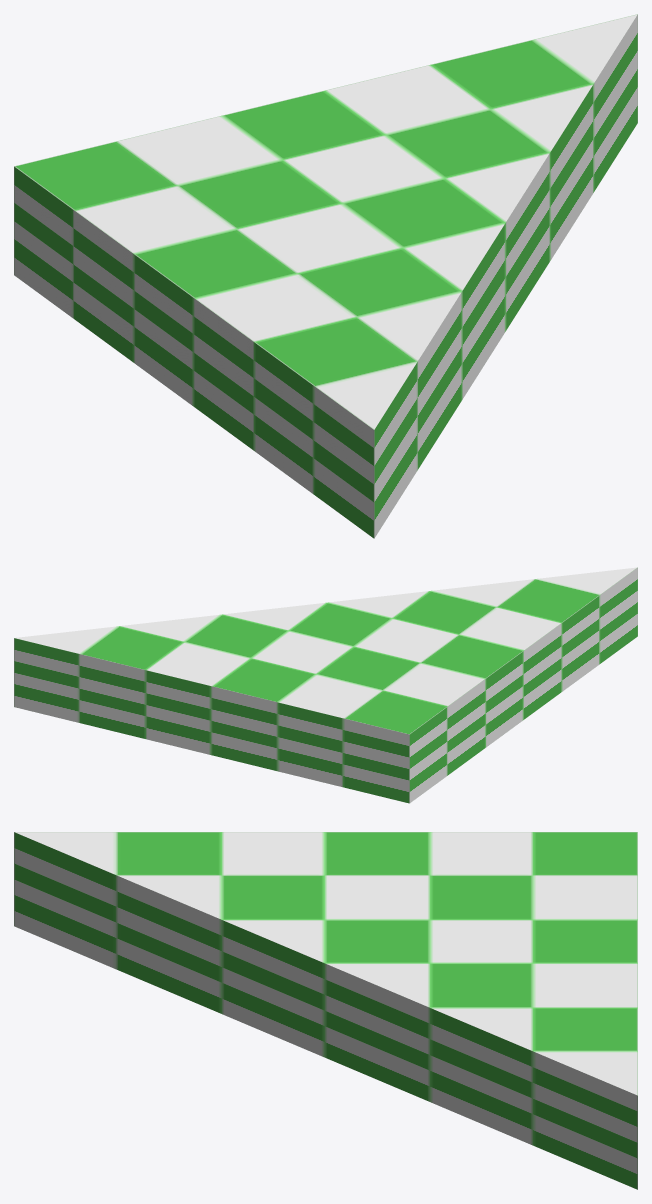
Rendered from ObservatoryFloor.fbx.
The picture shows the model from 3 angles, top to bottom: view 1: azimuth 30°, elevation 25°; view 2: azimuth 150°, elevation 25°; view 3: azimuth 270°, elevation 25°; orthographic projection. The views are drawn at different scales.
Parts seen in each view (by area): view 1: ObservatoryFloor; view 2: ObservatoryFloor; view 3: ObservatoryFloor.
Part boxes in pixels (bbox=[...]): ObservatoryFloor: bbox=[14, 14, 637, 538]; ObservatoryFloor: bbox=[14, 567, 637, 803]; ObservatoryFloor: bbox=[14, 832, 637, 1189].
Bounding box in the file's own units: 300 × 300 × 50.
Materials: 1 (1 with a texture image).
